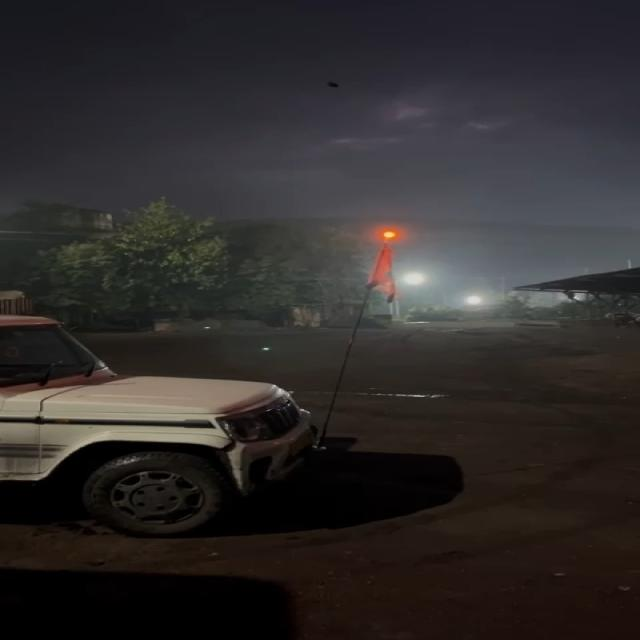light_vehicle: (0, 300, 323, 537)
